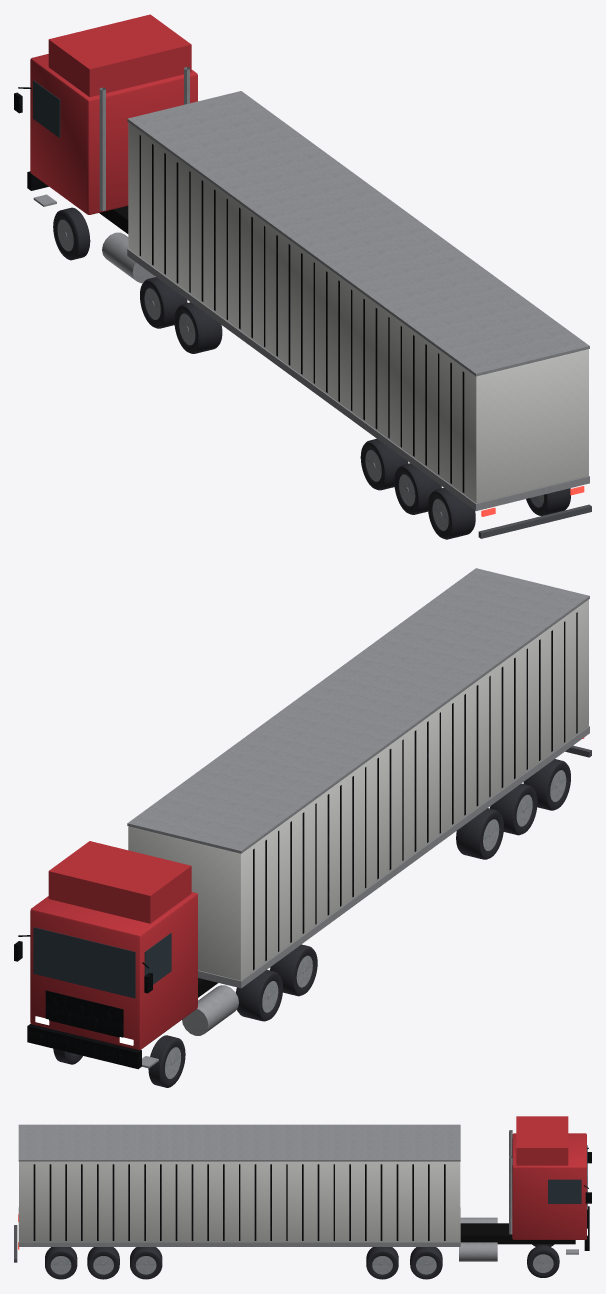
Rendered from truck_artic_red.gltf.
3 renders of one model, top to bottom at view 1: azimuth 30°, elevation 25°; view 2: azimuth 150°, elevation 25°; view 3: azimuth 270°, elevation 25°, orthographic. The views are drawn at different scales.
Visible parts, largest first — view 1: truck_artic_red; view 2: truck_artic_red; view 3: truck_artic_red.
Boxes of the visible parts, bbox=[...] form: truck_artic_red: bbox=[14, 14, 591, 539]; truck_artic_red: bbox=[14, 568, 591, 1087]; truck_artic_red: bbox=[14, 1116, 591, 1279].
Size of the model in its own units: 3.02 by 4.4 by 17.8.
13 materials, 8 textured.
